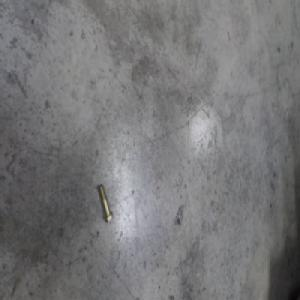Bolt: (96, 184, 113, 226)
